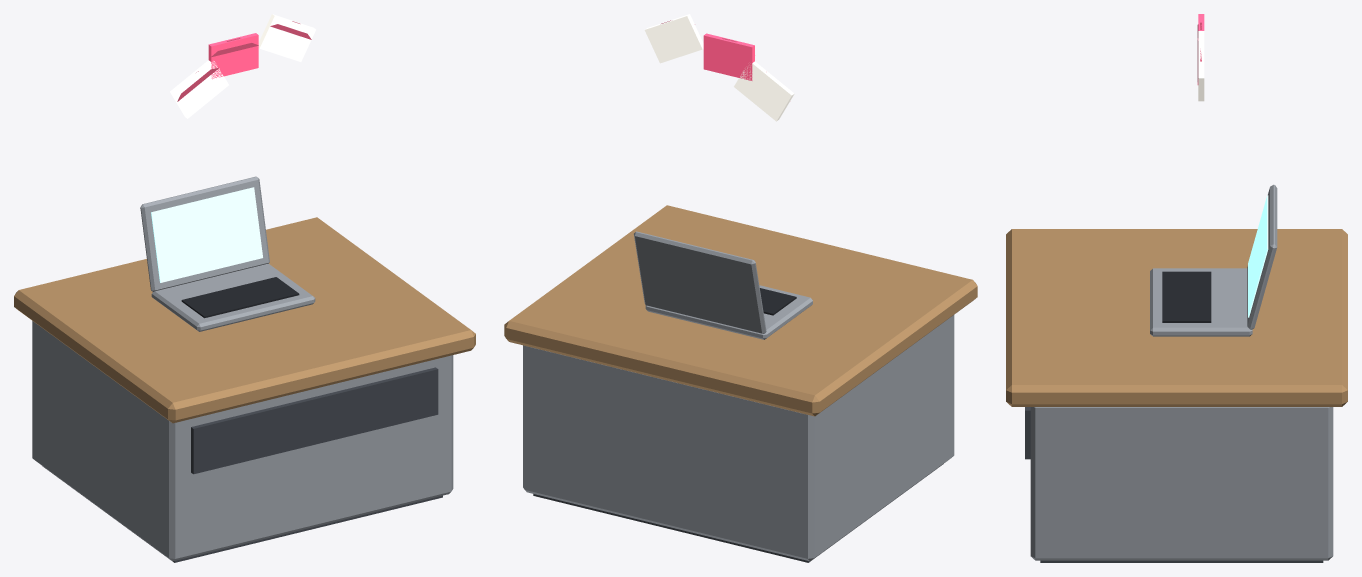
Rendered from replyall_1.glb.
The picture shows the model from 3 angles, left to right: view 1: azimuth 30°, elevation 25°; view 2: azimuth 150°, elevation 25°; view 3: azimuth 270°, elevation 25°; orthographic projection. The views are drawn at different scales.
Visible parts, largest first — view 1: replyall_1_mesh_Desk, replyall_1_mesh; view 2: replyall_1_mesh_Desk, replyall_1_mesh; view 3: replyall_1_mesh_Desk, replyall_1_mesh.
Part boxes in pixels (x1,y1,x2,y2): replyall_1_mesh_Desk: [14, 217, 475, 562]; replyall_1_mesh: [140, 14, 315, 331]; replyall_1_mesh_Desk: [504, 205, 977, 562]; replyall_1_mesh: [633, 14, 812, 339]; replyall_1_mesh_Desk: [1006, 229, 1347, 562]; replyall_1_mesh: [1150, 14, 1277, 336].
Size of the model in its own units: 0.78 by 1.09 by 0.7.
